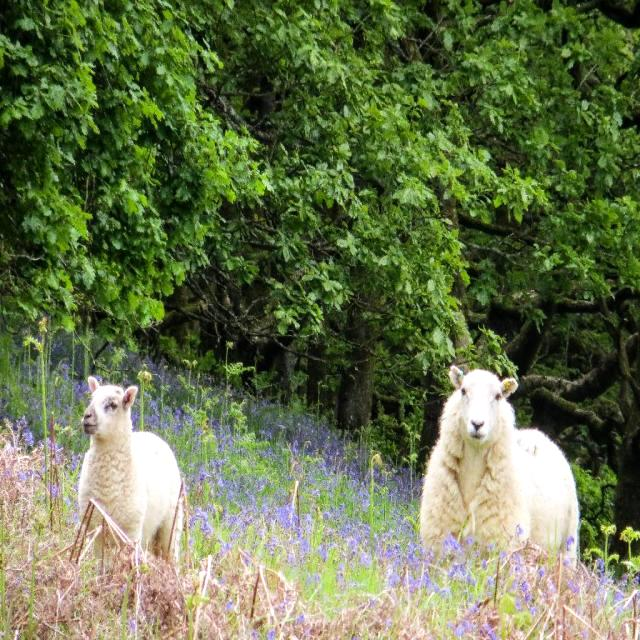sheep: (418, 368, 578, 570), (78, 375, 184, 560)
